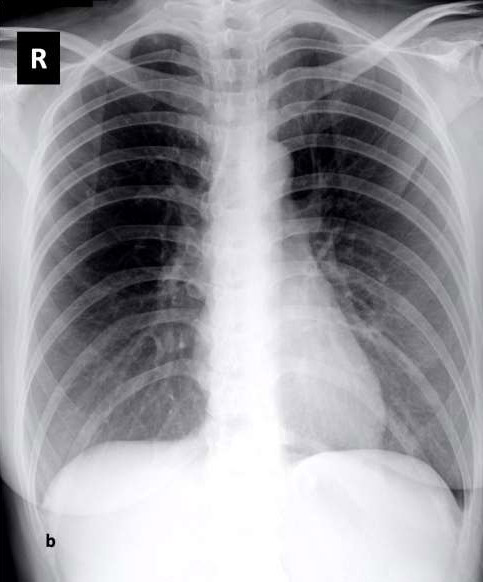Mildw: (276, 21, 461, 500), (37, 35, 207, 482)
